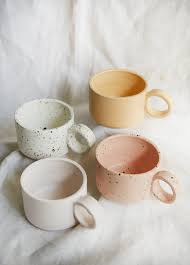mug: (10, 90, 112, 193), (93, 121, 184, 232), (74, 61, 176, 150), (15, 150, 97, 241)
